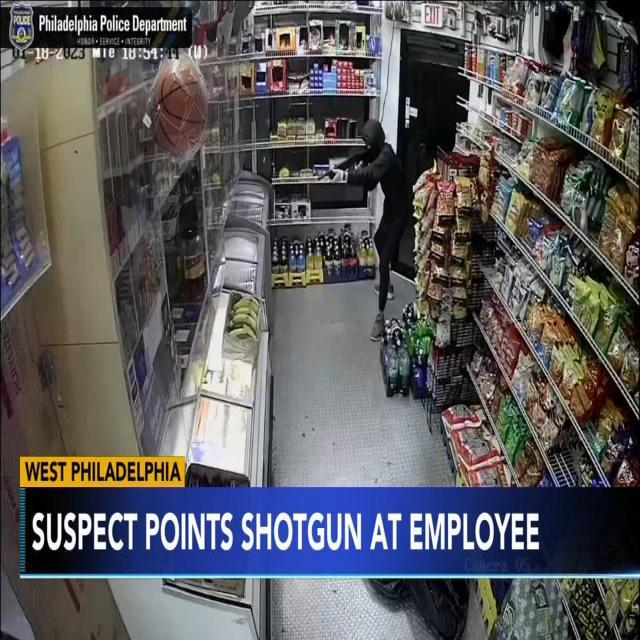weapon: (319, 146, 364, 191)
